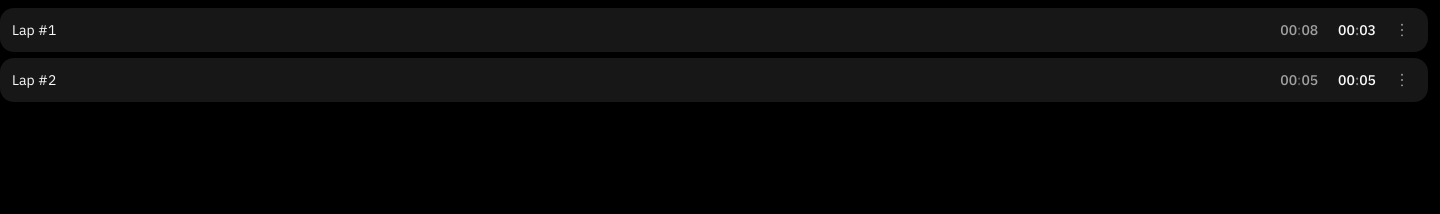
Laps › opens rename input when 'Renomear' is selected in the lap menu
Click the button titled "Mais opções" next to "03".
click(1402, 30)  # box [1384,12,1420,48]
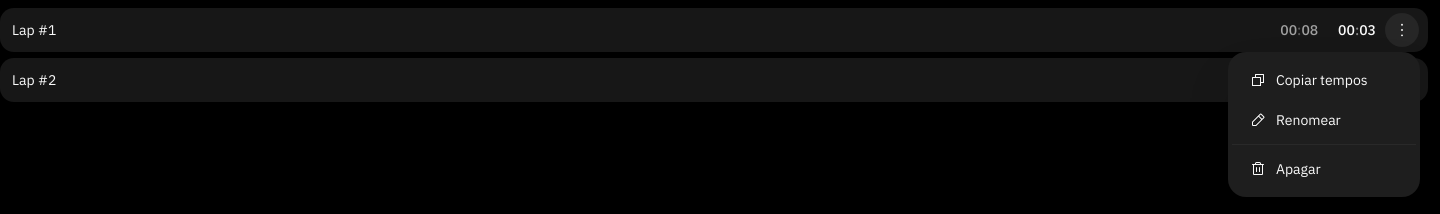
Click the menu item "Renomear".
click(1295, 120)  # box [1250,111,1341,129]
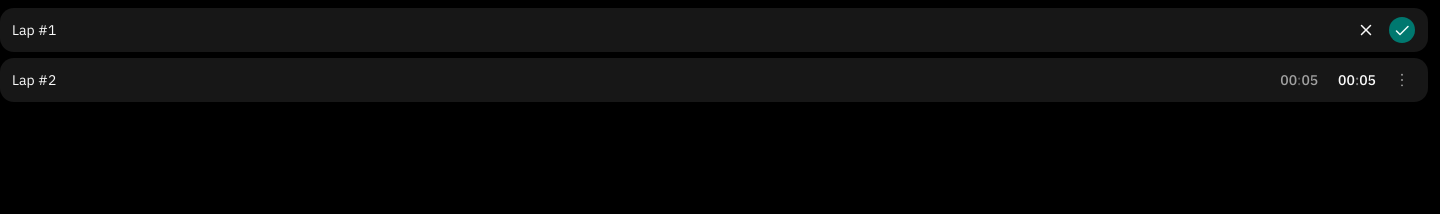
Now the field showing "Lap #1" is shown, box [12,20,1344,40]
